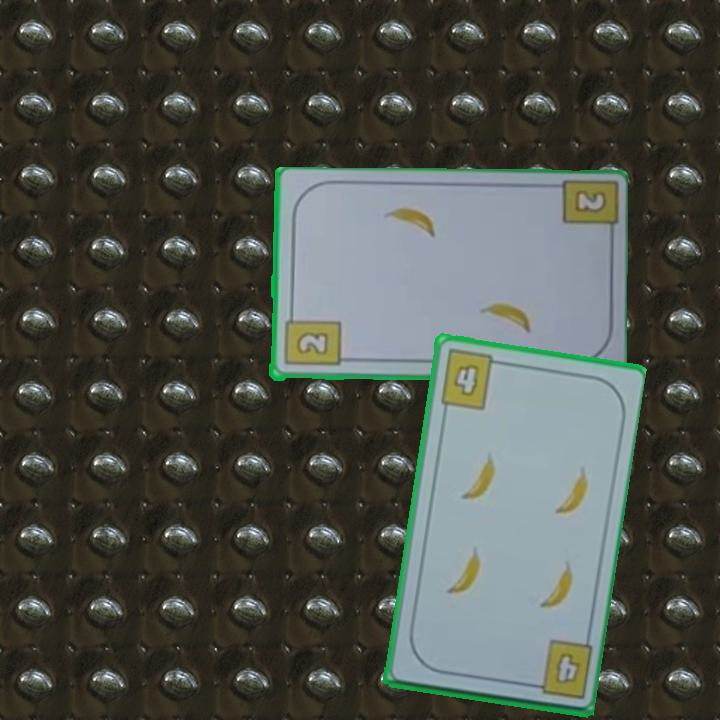2b: (281, 308, 342, 370), (571, 187, 610, 216)
4b: (523, 636, 595, 702), (436, 346, 505, 413)
